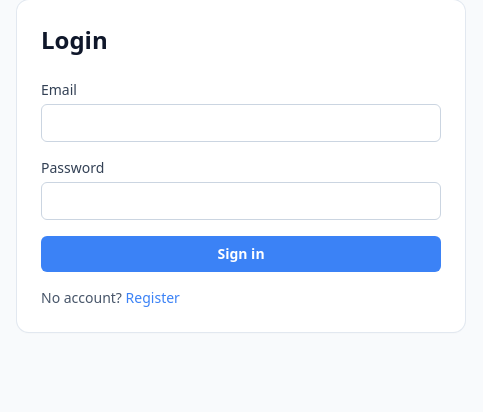
LoginPage › surfaces 401 errors
The width and height of the screenshot is (483, 412).
Type "ash@example.com" into the field labelled "Email" at (241, 123), box x1=41 y1=104 x2=441 y2=142
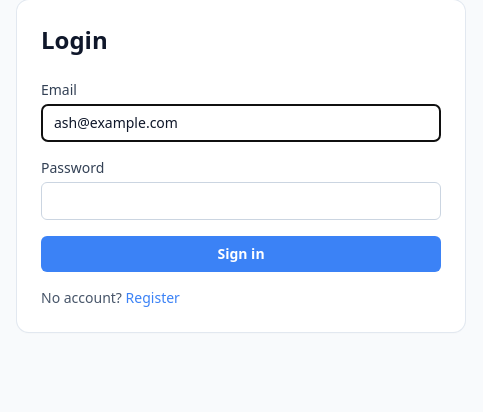
Type "wrong" into the password field labelled "Password" at (241, 201), box x1=41 y1=182 x2=441 y2=220
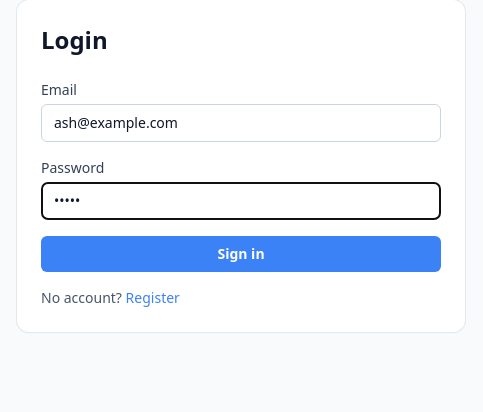
Click the button "Sign in" at (241, 254), box x1=41 y1=236 x2=441 y2=272
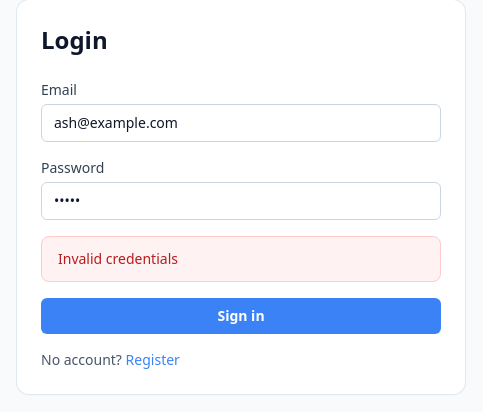
Expected: the message reads "Invalid credentials", x1=58 y1=249 x2=178 y2=268
